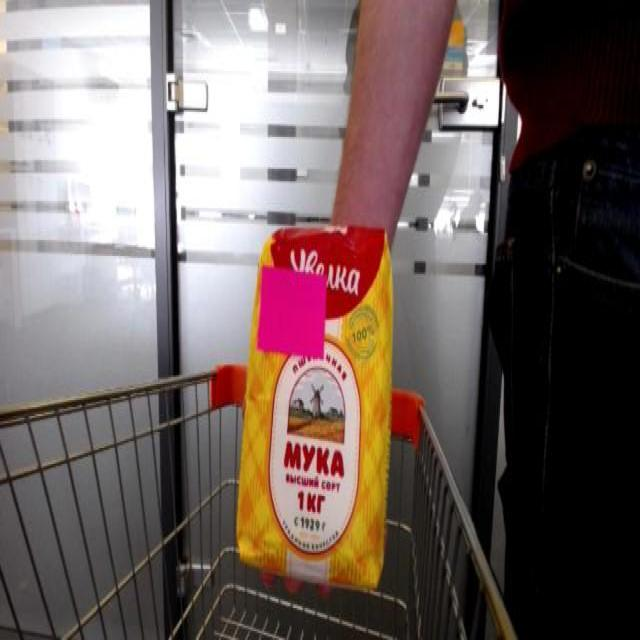Almond Milk: (232, 215, 399, 597)
